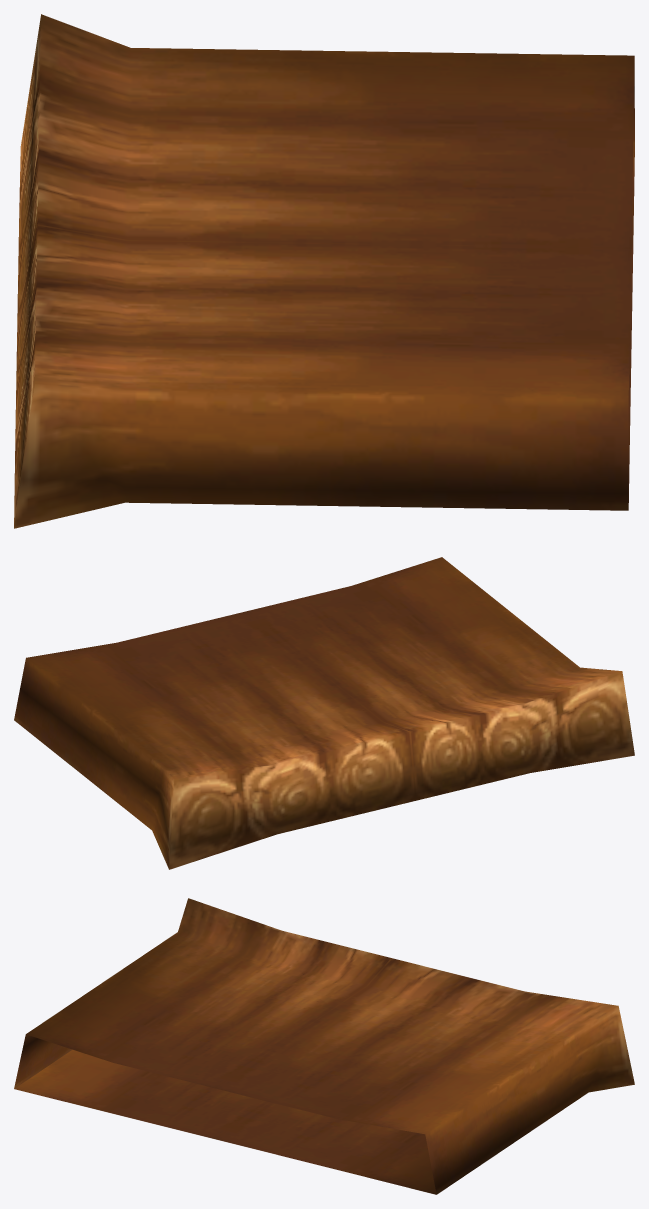
Rendered from environment_common_muzhuangban_001_a.FBX.
The picture shows the model from 3 angles, top to bottom: view 1: azimuth 30°, elevation 25°; view 2: azimuth 150°, elevation 25°; view 3: azimuth 270°, elevation 25°; orthographic projection. The views are drawn at different scales.
Visible parts, largest first — view 1: environment_common_muzhuangban_001_a; view 2: environment_common_muzhuangban_001_a; view 3: environment_common_muzhuangban_001_a.
Boxes of the visible parts, <box> form: environment_common_muzhuangban_001_a: <box>14,14,634,528</box>; environment_common_muzhuangban_001_a: <box>14,557,634,869</box>; environment_common_muzhuangban_001_a: <box>14,898,634,1194</box>.
Size of the model in its own units: 118 by 19.33 by 134.
